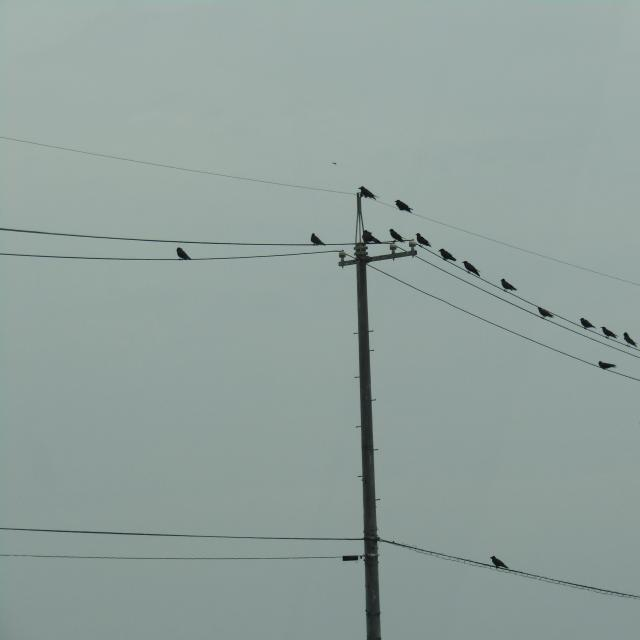pole: (321, 173, 431, 637)
